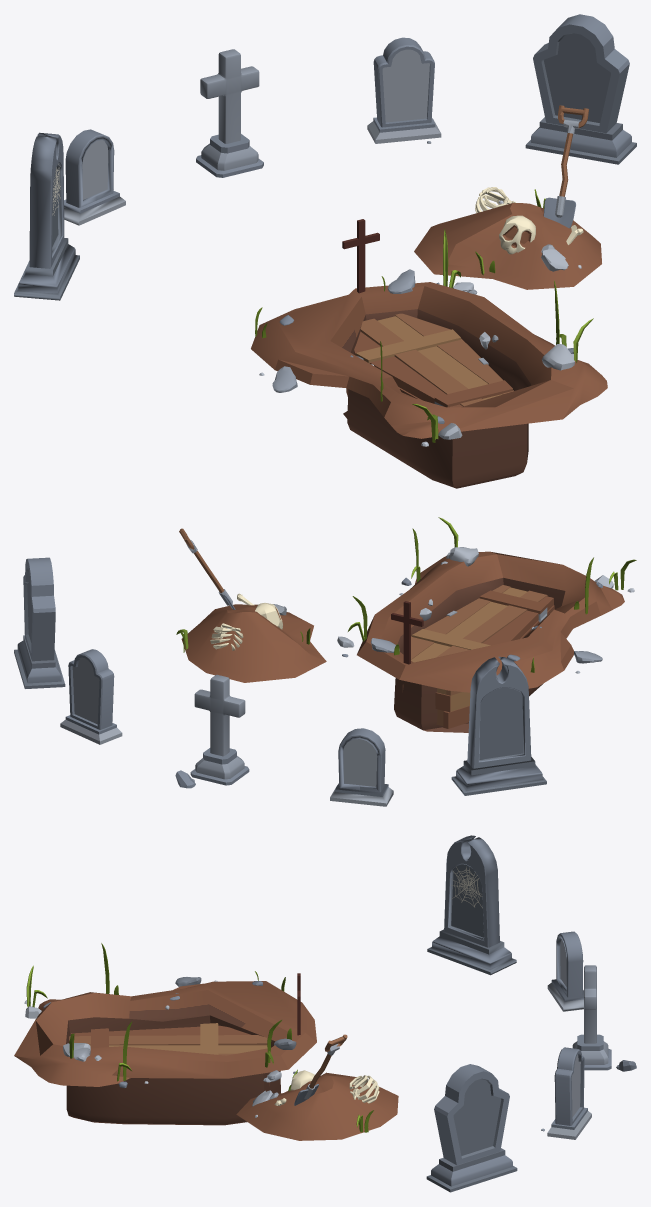
The model's file is graveyard.fbx.
The picture shows the model from 3 angles, top to bottom: view 1: azimuth 30°, elevation 25°; view 2: azimuth 150°, elevation 25°; view 3: azimuth 270°, elevation 25°; orthographic projection. The views are drawn at different scales.
Visible parts, largest first — view 1: GroundHole01_1_M_HalloweenPack_Baked_0, GroundMound01_1_M_HalloweenPack_Baked_0, Tombstone_Base02_5_M_HalloweenPack_Baked_0, Tombstone08_1_M_HalloweenPack_Baked_0, Tombstone_Base03_1_M_HalloweenPack_Baked_0.001, Tombstone_Base03_1_M_HalloweenPack_Baked_0, Tombstone01_1_M_HalloweenPack_Baked_0; view 2: GroundHole01_1_M_HalloweenPack_Baked_0, GroundMound01_1_M_HalloweenPack_Baked_0, Tombstone08_1_M_HalloweenPack_Baked_0, Tombstone_Base02_5_M_HalloweenPack_Baked_0, Tombstone_Base03_1_M_HalloweenPack_Baked_0.001, Tombstone_Base03_1_M_HalloweenPack_Baked_0, Tombstone01_1_M_HalloweenPack_Baked_0; view 3: GroundHole01_1_M_HalloweenPack_Baked_0, GroundMound01_1_M_HalloweenPack_Baked_0, Tombstone_Base02_5_M_HalloweenPack_Baked_0, Tombstone08_1_M_HalloweenPack_Baked_0, Tombstone_Base03_1_M_HalloweenPack_Baked_0.001, Tombstone01_1_M_HalloweenPack_Baked_0, Tombstone_Base03_1_M_HalloweenPack_Baked_0.
Boxes of the visible parts, x1,y1,x2,y2 form: GroundHole01_1_M_HalloweenPack_Baked_0: (251,219,607,488); GroundMound01_1_M_HalloweenPack_Baked_0: (414,105,601,289); Tombstone_Base02_5_M_HalloweenPack_Baked_0: (525,14,636,164); Tombstone08_1_M_HalloweenPack_Baked_0: (14,132,79,300); Tombstone_Base03_1_M_HalloweenPack_Baked_0.001: (367,37,441,143); Tombstone_Base03_1_M_HalloweenPack_Baked_0: (196,49,263,177); Tombstone01_1_M_HalloweenPack_Baked_0: (64,129,125,225); GroundHole01_1_M_HalloweenPack_Baked_0: (337,517,636,732); GroundMound01_1_M_HalloweenPack_Baked_0: (176,528,326,682); Tombstone08_1_M_HalloweenPack_Baked_0: (451,656,546,795); Tombstone_Base02_5_M_HalloweenPack_Baked_0: (14,557,65,688); Tombstone_Base03_1_M_HalloweenPack_Baked_0.001: (60,649,122,744); Tombstone_Base03_1_M_HalloweenPack_Baked_0: (175,674,249,788); Tombstone01_1_M_HalloweenPack_Baked_0: (330,728,393,806); GroundHole01_1_M_HalloweenPack_Baked_0: (14,943,316,1125); GroundMound01_1_M_HalloweenPack_Baked_0: (236,1034,398,1140); Tombstone_Base02_5_M_HalloweenPack_Baked_0: (426,1064,517,1192); Tombstone08_1_M_HalloweenPack_Baked_0: (427,835,516,975); Tombstone_Base03_1_M_HalloweenPack_Baked_0.001: (541,1047,591,1139); Tombstone01_1_M_HalloweenPack_Baked_0: (547,931,583,1011); Tombstone_Base03_1_M_HalloweenPack_Baked_0: (572,965,636,1071).
Size of the model in its own units: 587 by 200 by 610.
2 materials, 2 textured.
